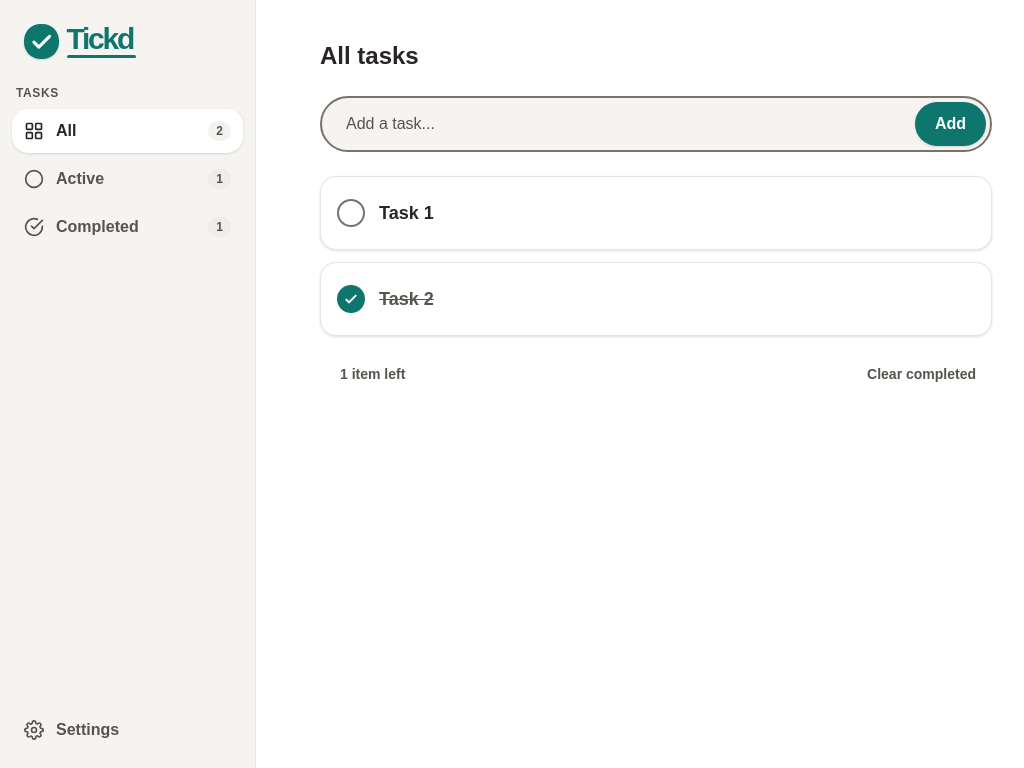
Test: does not offer undo after clearing completed tasks
Click the button "Clear completed".
click(922, 374)  # box x1=859 y1=352 x2=984 y2=396
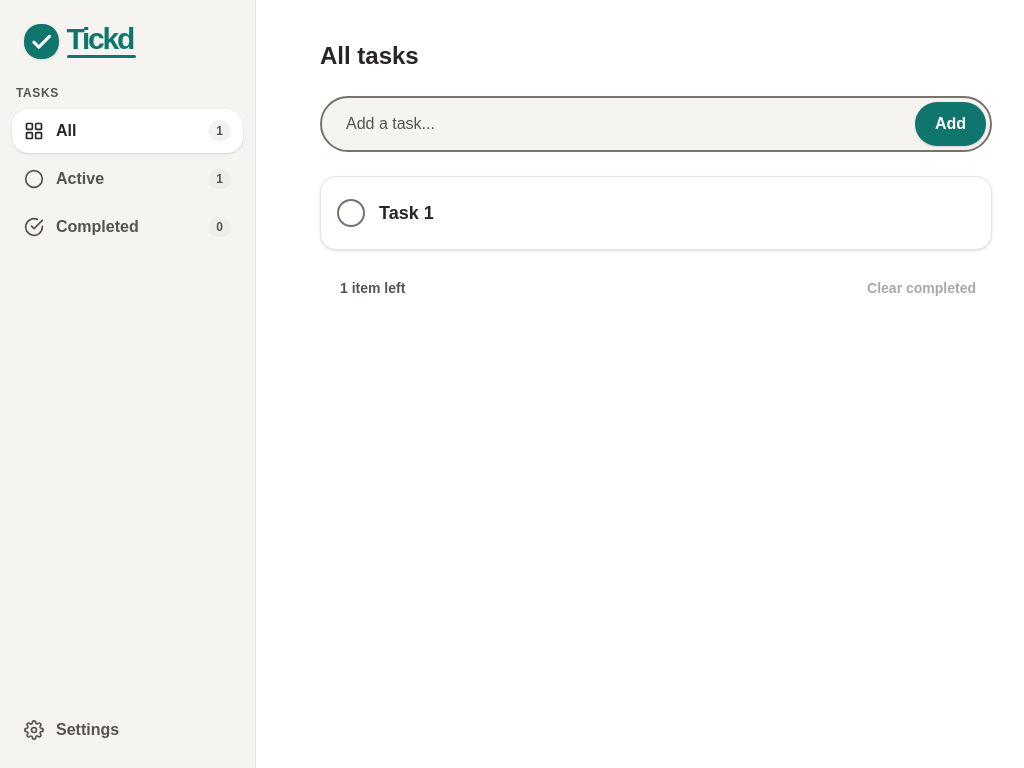
Expected: the button "Task 1" is shown, x1=379 y1=191 x2=929 y2=235
Result: the button "Task 2" is gone
